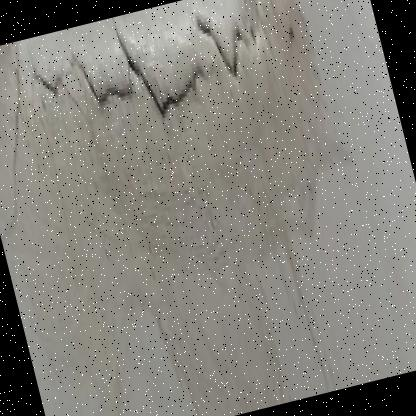Crack: (16, 0, 345, 233), (0, 41, 76, 289)
